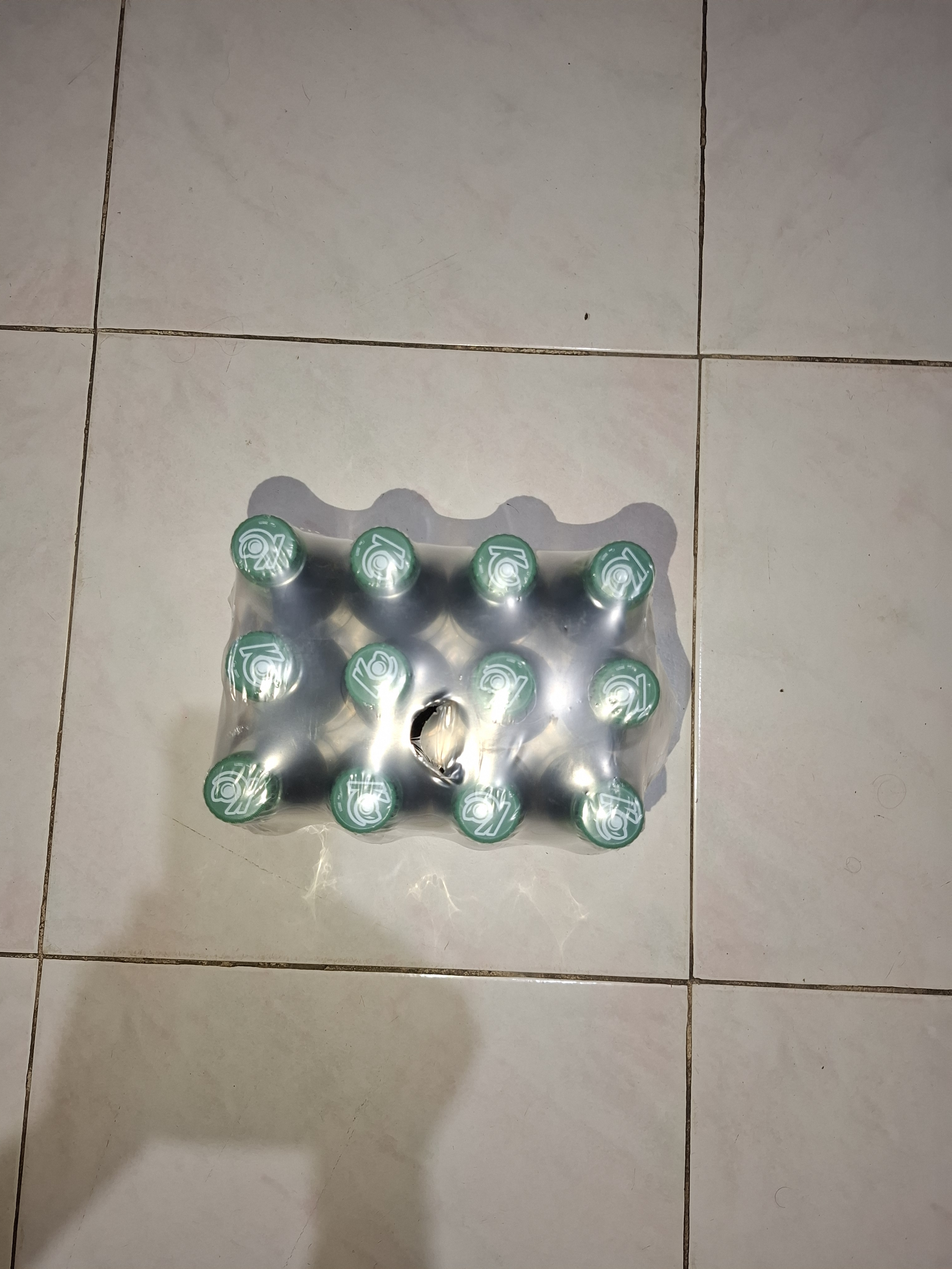Tampa Refrigerante Kuat: (585, 650, 660, 732), (204, 750, 280, 826), (470, 647, 544, 725), (347, 523, 420, 600), (232, 631, 303, 708), (473, 532, 540, 608), (579, 776, 646, 851), (233, 515, 303, 586), (344, 644, 414, 715), (328, 765, 395, 838), (456, 771, 520, 844), (590, 537, 656, 607)
